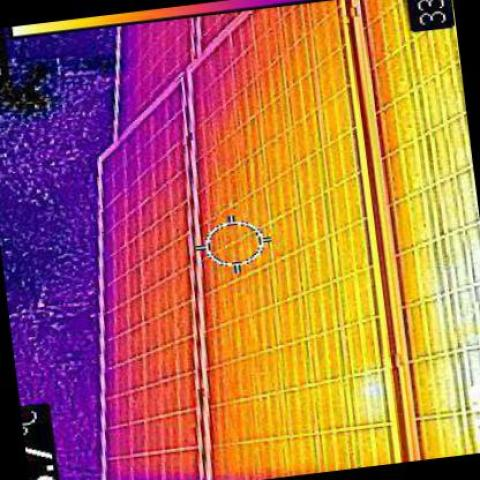fault: (362, 373, 391, 422)
